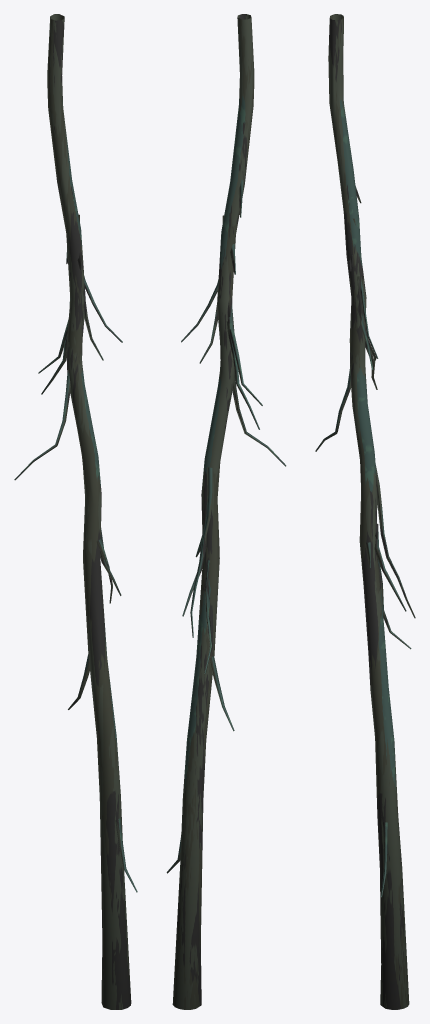
Rendered from TREE_C.fbx.
The picture shows the model from 3 angles, left to right: view 1: azimuth 30°, elevation 25°; view 2: azimuth 210°, elevation 25°; view 3: azimuth 330°, elevation 25°; orthographic projection. The views are drawn at different scales.
Parts seen in each view (by area): view 1: TREE_C; view 2: TREE_C; view 3: TREE_C.
Boxes of the visible parts, <box> form: TREE_C: <box>14,14,137,1009</box>; TREE_C: <box>166,14,286,1009</box>; TREE_C: <box>315,14,415,1009</box>.
Size of the model in its own units: 324 by 2947 by 245.
